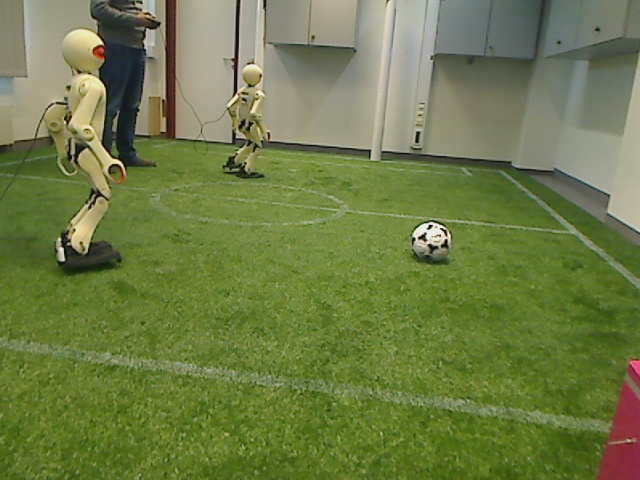ball: (408, 220, 456, 266)
robot: (43, 28, 131, 275), (222, 58, 269, 181)
